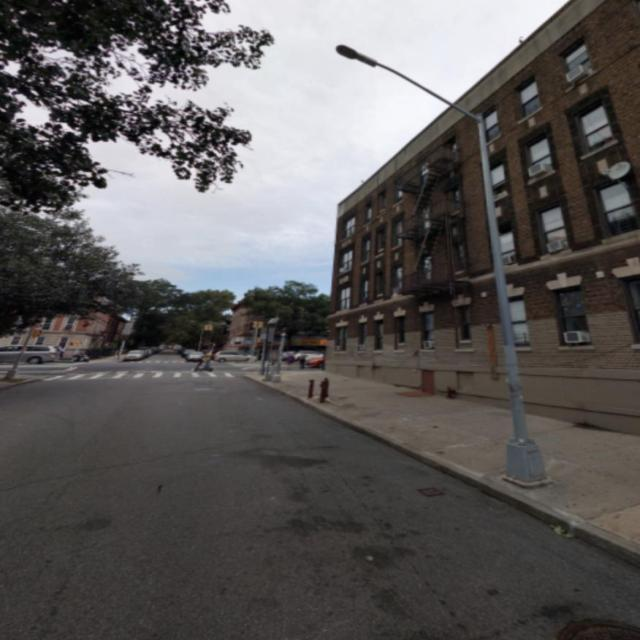off: (332, 28, 498, 140)
